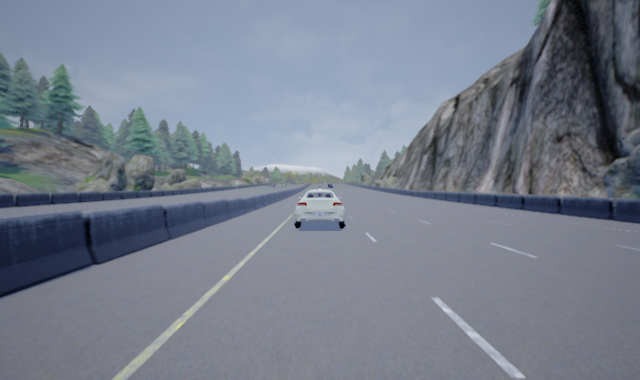vehicle: (292, 189, 347, 231)
